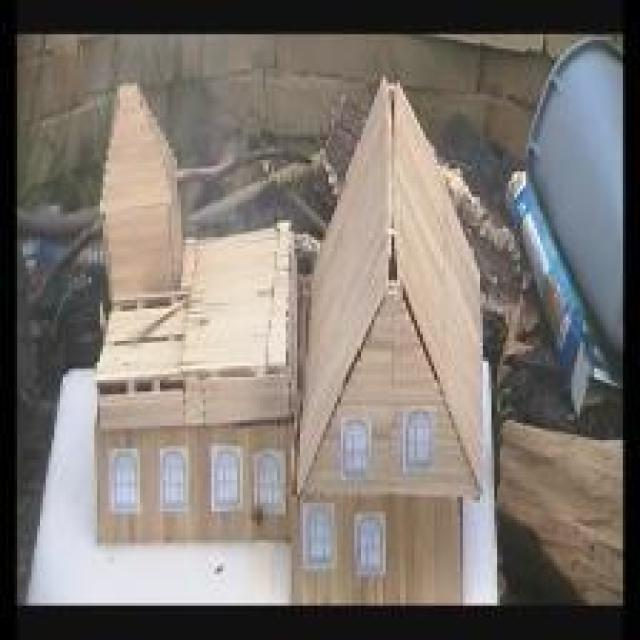smoke: (162, 103, 238, 225)
